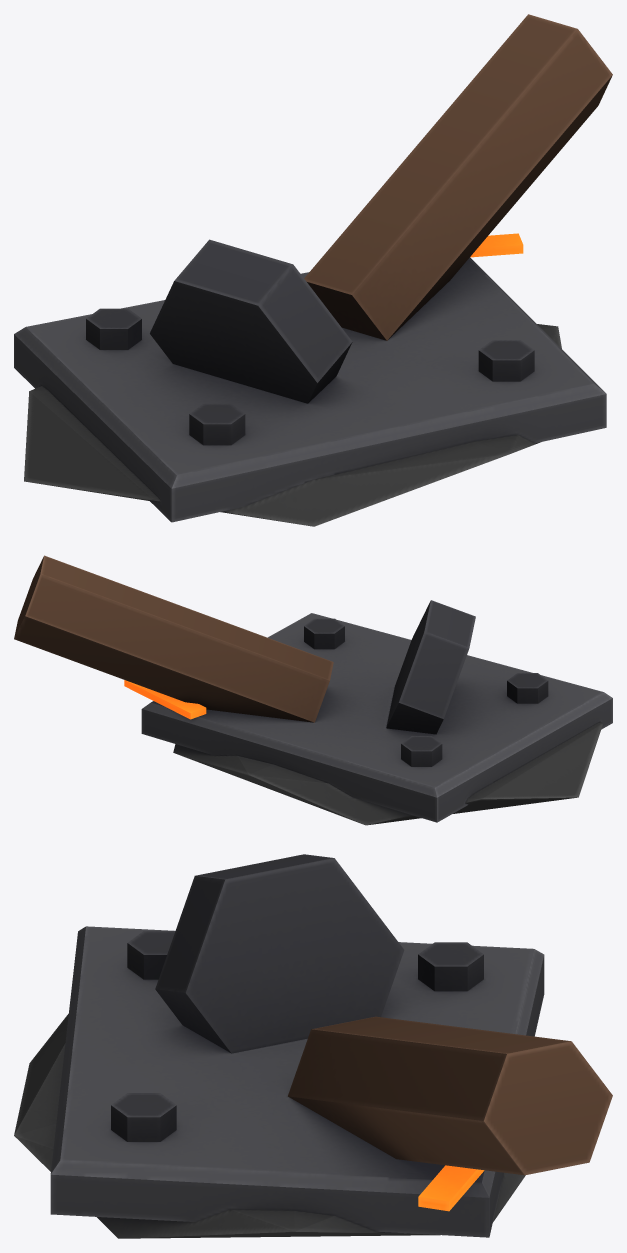
The model's file is sign_colossus_bolt.glb.
The picture shows the model from 3 angles, top to bottom: view 1: azimuth 30°, elevation 25°; view 2: azimuth 150°, elevation 25°; view 3: azimuth 270°, elevation 25°; orthographic projection. The views are drawn at different scales.
Visible parts, largest first — view 1: sign_colossus_bolt; view 2: sign_colossus_bolt; view 3: sign_colossus_bolt.
Boxes of the visible parts, bbox=[...] form: sign_colossus_bolt: bbox=[14, 14, 612, 526]; sign_colossus_bolt: bbox=[14, 555, 612, 825]; sign_colossus_bolt: bbox=[14, 854, 612, 1238].
Bounding box in the file's own units: 1.65 × 0.6046 × 1.09.
Materials: 1 (1 with a texture image).
